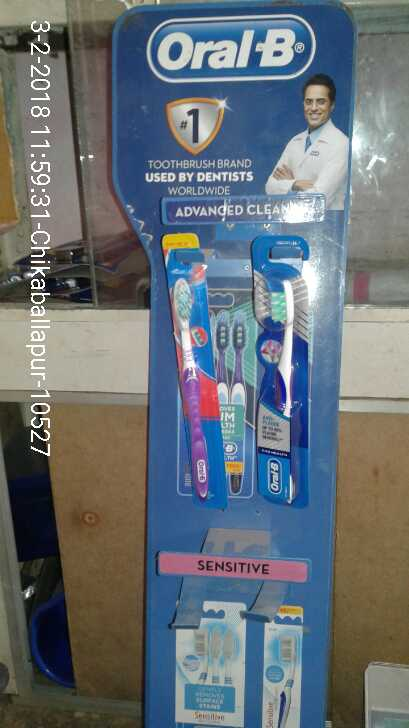oralb: (161, 214, 227, 509), (250, 230, 316, 506)
